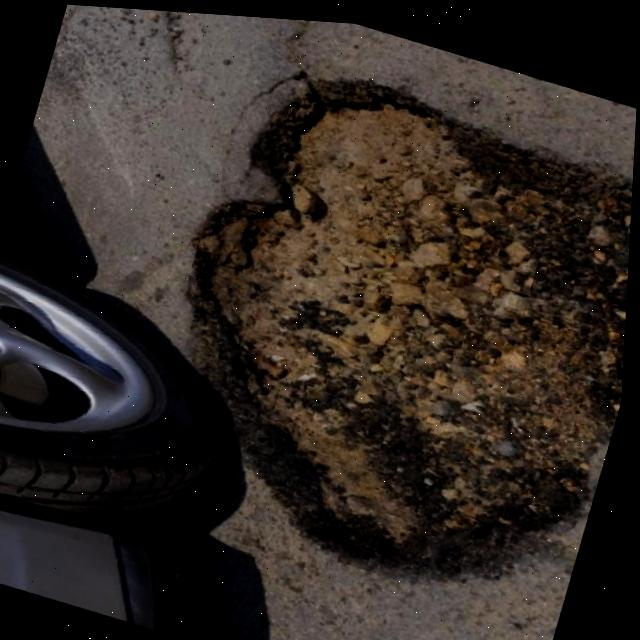Pothole: (74, 5, 640, 640)
